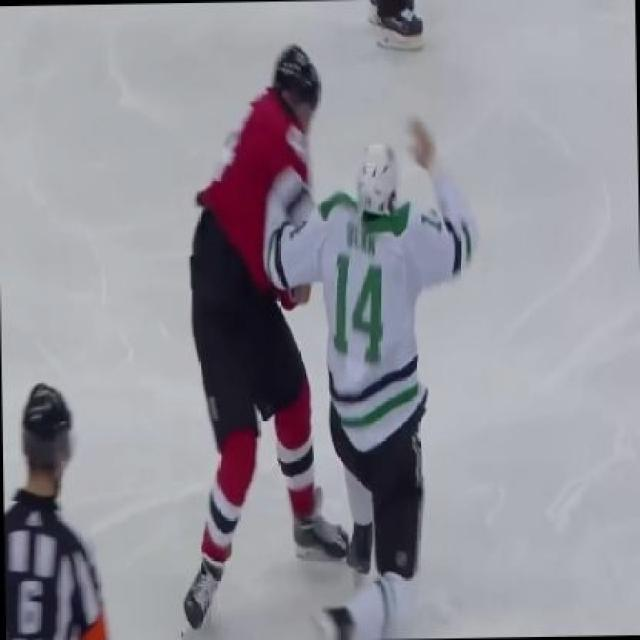fight: (173, 39, 481, 638)
